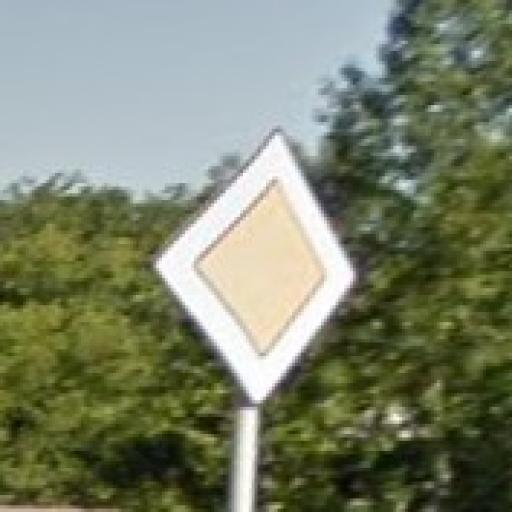traffic_sign: (151, 126, 360, 408)
